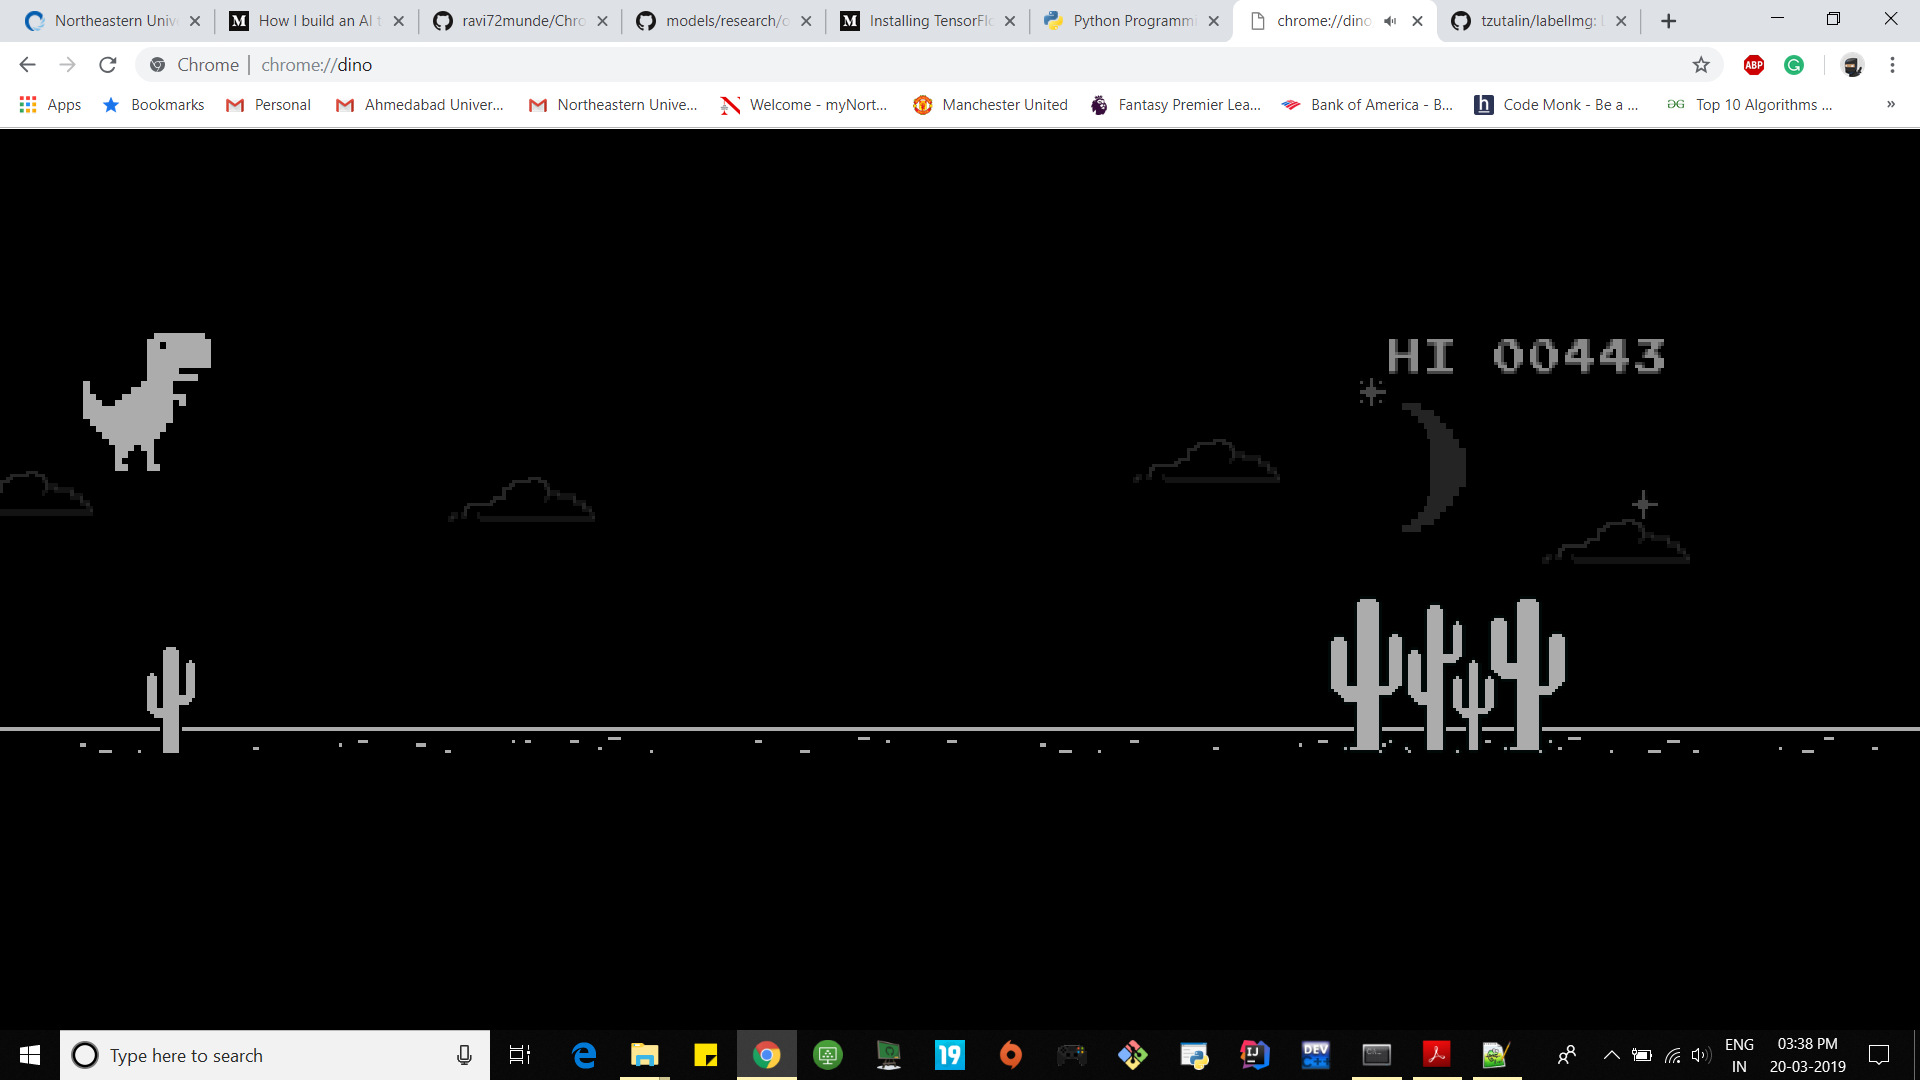cactus-4: (1323, 595, 1569, 752)
cactus-small: (138, 645, 200, 757)
dino: (80, 330, 214, 473)
